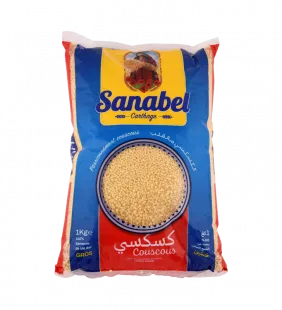SANABEL CARTHAGE: (44, 20, 236, 285)
